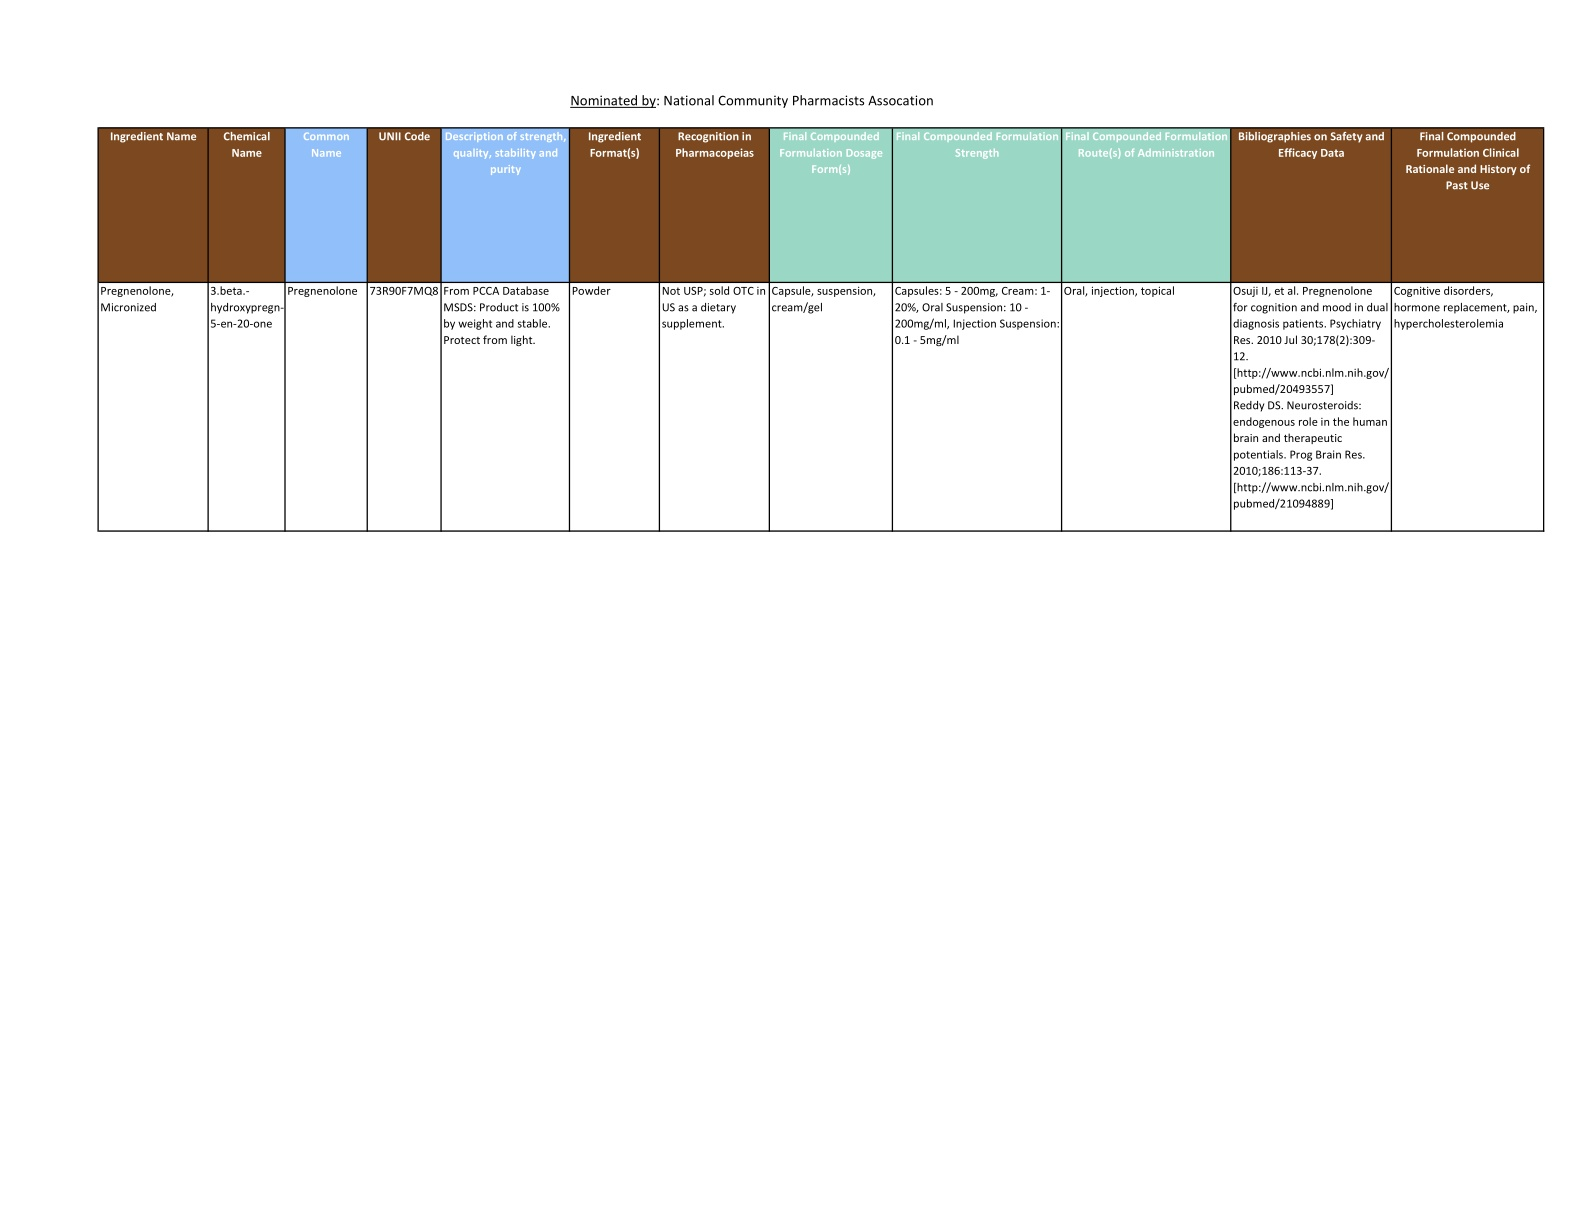full_lined: (96, 126, 1545, 534)
